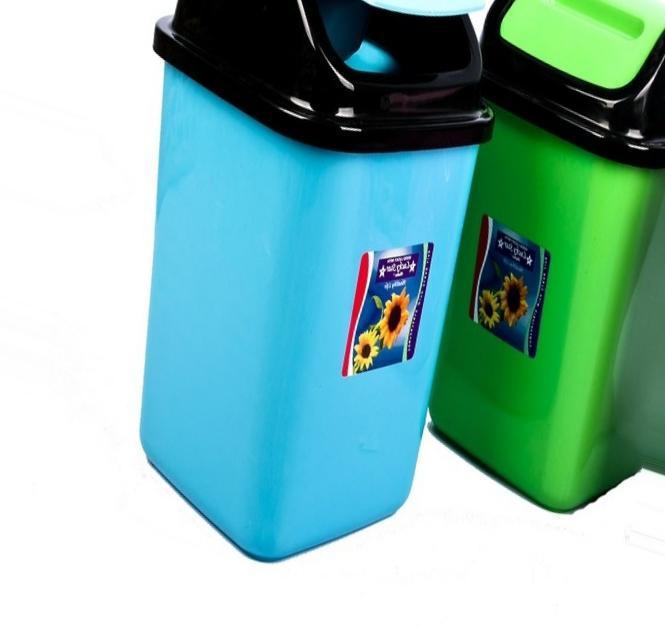Bote de Basura: (142, 0, 436, 554), (447, 2, 664, 523)
